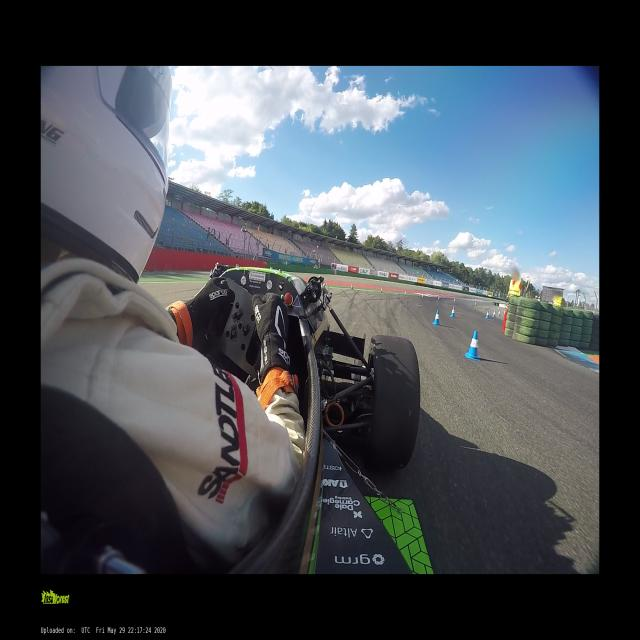blue_cone: (465, 330, 481, 360), (433, 308, 440, 326), (450, 307, 455, 317), (485, 310, 489, 318), (492, 310, 495, 318), (498, 310, 501, 316), (351, 284, 353, 290), (404, 290, 406, 295), (475, 301, 477, 305), (498, 306, 500, 310), (381, 287, 382, 292), (422, 293, 423, 297), (438, 296, 439, 300), (454, 298, 455, 302)
